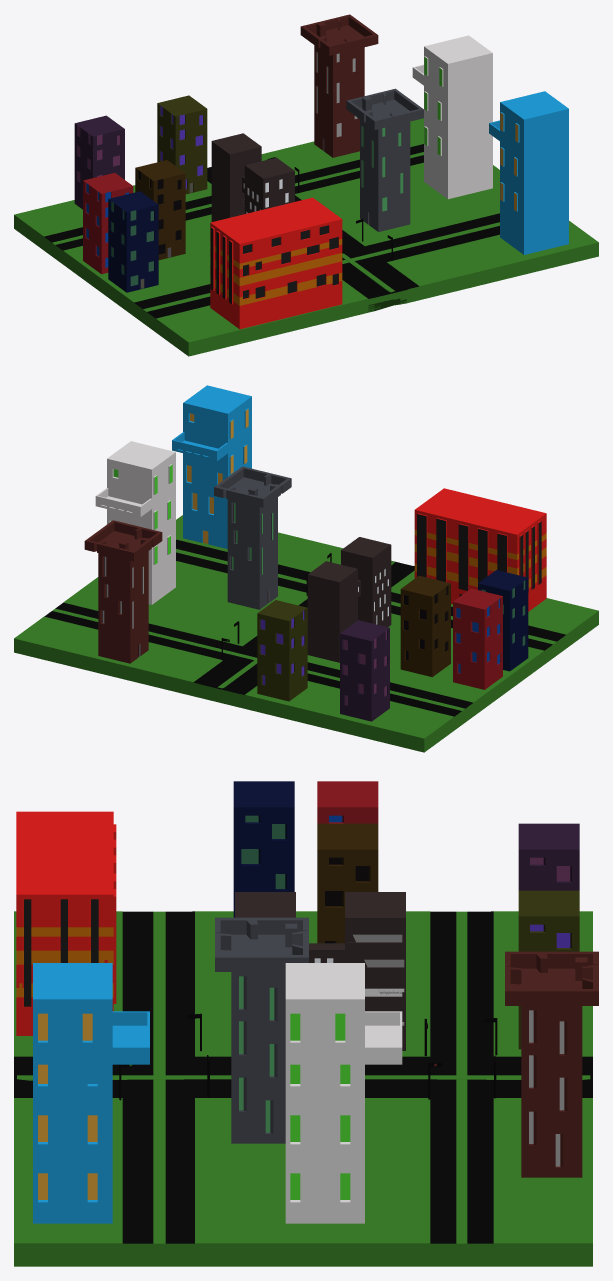
The model's file is mapsample.glb.
The picture shows the model from 3 angles, top to bottom: view 1: azimuth 30°, elevation 25°; view 2: azimuth 150°, elevation 25°; view 3: azimuth 270°, elevation 25°; orthographic projection. The views are drawn at different scales.
Parts seen in each view (by area): view 1: Cube, Cube.014, Cube.007, Cube.001, Cube.011, Cube.009, Cube.008, Cube.005, Cube.003, Cube.002, Cube.004, Cube.006 (+1 smaller); view 2: Cube, Cube.014, Cube.007, Cube.001, Cube.009, Cube.011, Cube.005, Cube.003, Cube.002, Cube.006, Cube.004, Cube.010 (+1 smaller); view 3: Cube, Cube.001, Cube.007, Cube.014, Cube.009, Cube.011, Cube.008, Cube.004, Cube.003, Cube.002, Cube.005, Cube.006 (+1 smaller).
Boxes of the visible parts, x1=… form: Cube: x1=14, y1=118, x2=598, y2=356; Cube.014: x1=210, y1=197, x2=342, y2=329; Cube.007: x1=489, y1=91, x2=568, y2=254; Cube.001: x1=412, y1=35, x2=492, y2=199; Cube.011: x1=346, y1=88, x2=423, y2=231; Cube.009: x1=300, y1=14, x2=378, y2=157; Cube.008: x1=108, y1=191, x2=158, y2=292; Cube.005: x1=157, y1=95, x2=207, y2=194; Cube.003: x1=135, y1=160, x2=185, y2=260; Cube.002: x1=74, y1=115, x2=124, y2=209; Cube.004: x1=211, y1=133, x2=261, y2=221; Cube.006: x1=83, y1=173, x2=133, y2=274; Cube: x1=14, y1=515, x2=598, y2=752; Cube.014: x1=414, y1=488, x2=546, y2=611; Cube.007: x1=172, y1=385, x2=251, y2=548; Cube.001: x1=95, y1=441, x2=175, y2=604; Cube.009: x1=84, y1=520, x2=162, y2=663; Cube.011: x1=214, y1=466, x2=291, y2=609; Cube.005: x1=257, y1=600, x2=307, y2=701; Cube.003: x1=400, y1=575, x2=450, y2=677; Cube.002: x1=340, y1=620, x2=389, y2=721; Cube.006: x1=453, y1=588, x2=502, y2=689; Cube.004: x1=307, y1=561, x2=357, y2=662; Cube.010: x1=341, y1=537, x2=391, y2=627; Cube: x1=14, y1=911, x2=592, y2=1266; Cube.001: x1=285, y1=963, x2=402, y2=1223; Cube.007: x1=33, y1=963, x2=149, y2=1223; Cube.014: x1=16, y1=811, x2=116, y2=1035; Cube.009: x1=505, y1=951, x2=598, y2=1177; Cube.011: x1=215, y1=917, x2=308, y2=1143; Cube.008: x1=233, y1=781, x2=294, y2=917; Cube.004: x1=344, y1=892, x2=405, y2=1050; Cube.003: x1=317, y1=823, x2=378, y2=943; Cube.002: x1=518, y1=823, x2=579, y2=890; Cube.005: x1=518, y1=890, x2=579, y2=1049; Cube.006: x1=317, y1=781, x2=378, y2=823.
Bounding box in the file's own units: 50.47 × 17.74 × 37.61.
